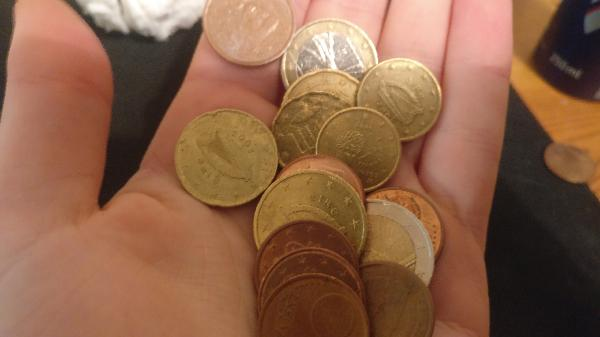Fifty Cent: (254, 170, 366, 248)
Five Cent: (253, 252, 369, 337), (250, 221, 360, 299), (254, 272, 370, 337), (206, 1, 299, 70), (361, 191, 445, 267), (542, 142, 599, 190)
One Euro: (282, 19, 379, 95)
Ten Cent: (353, 59, 445, 140)
Twenty Cent: (173, 109, 269, 208), (315, 106, 408, 185), (269, 94, 353, 167), (284, 69, 365, 140)
Two Euro: (333, 198, 440, 302)
